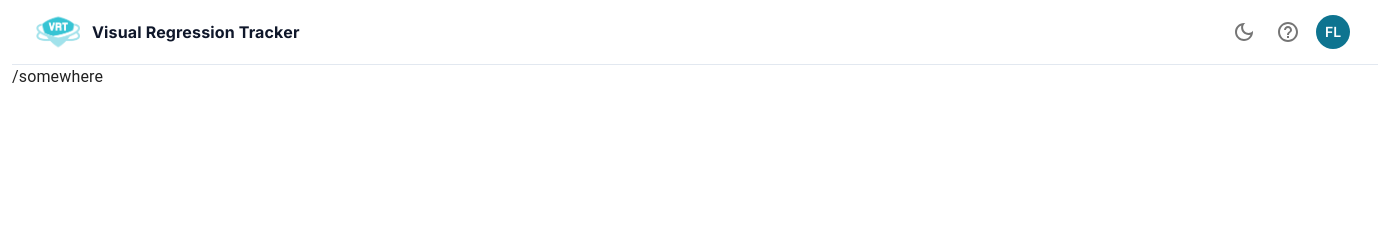
Scenario: Header › help menu › shows the take-tour button and the VRT version
Click the button with test id "helpMenuButton". click: click(1288, 32)
box: [1268,12,1308,52]
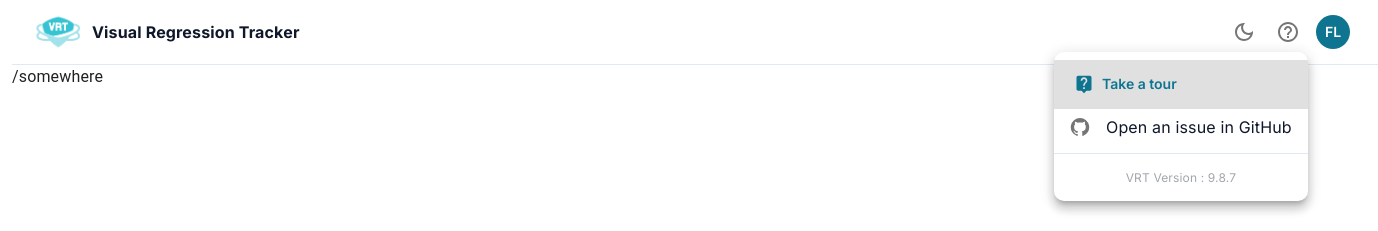
Now the button "Take a tour" is shown, box [1070,66,1185,102]
Now the text "VRT Version : 9.8.7" is shown, box [1126,168,1236,187]
